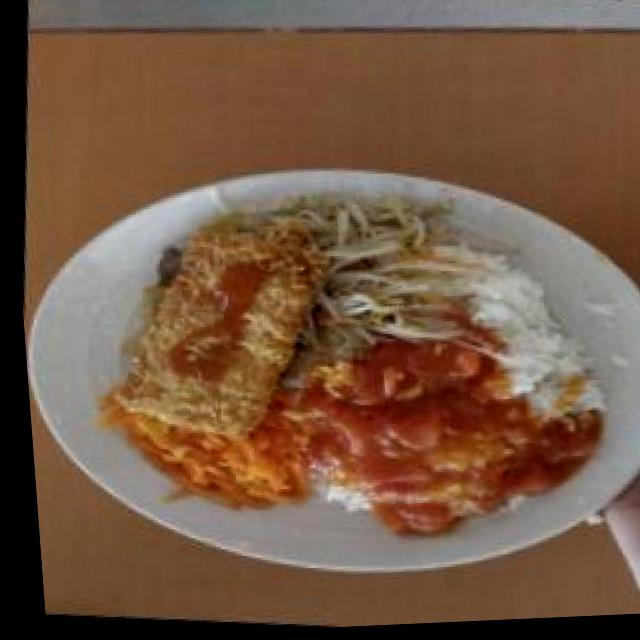carrot_eggs: (160, 419, 294, 496)
mung_bean_sprouts: (304, 199, 430, 333)
rice: (462, 276, 560, 359)
triangle_hash_brown: (122, 238, 318, 417)
